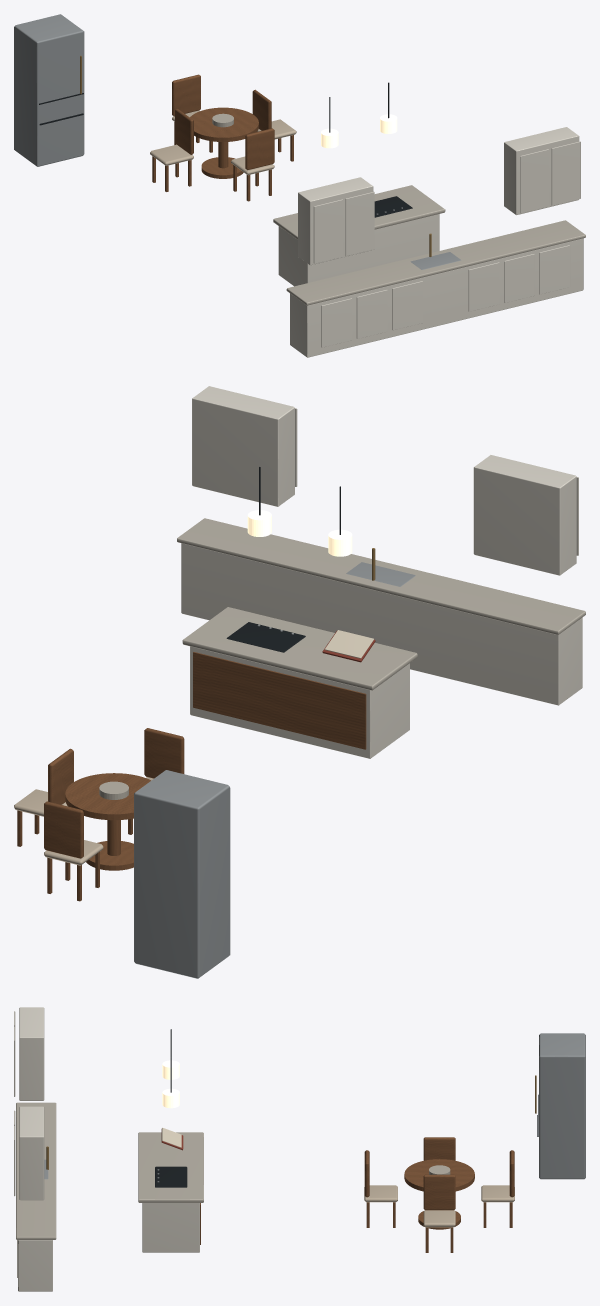
Rendered from kitchen-furniture-v002.glb.
The picture shows the model from 3 angles, top to bottom: view 1: azimuth 30°, elevation 25°; view 2: azimuth 150°, elevation 25°; view 3: azimuth 270°, elevation 25°; orthographic projection. The views are drawn at different scales.
Parts seen in each view (by area): view 1: Export North base cabinets; view 2: Export North base cabinets; view 3: Export North base cabinets.
Part boxes in pixels (left/top/right/bottom): Export North base cabinets: left=14, top=14, right=585, bottom=357; Export North base cabinets: left=14, top=386, right=585, bottom=978; Export North base cabinets: left=14, top=1007, right=585, bottom=1291.
Bounding box in the file's own units: 4.83 × 2.94 × 8.52.
10 materials, 1 textured.
